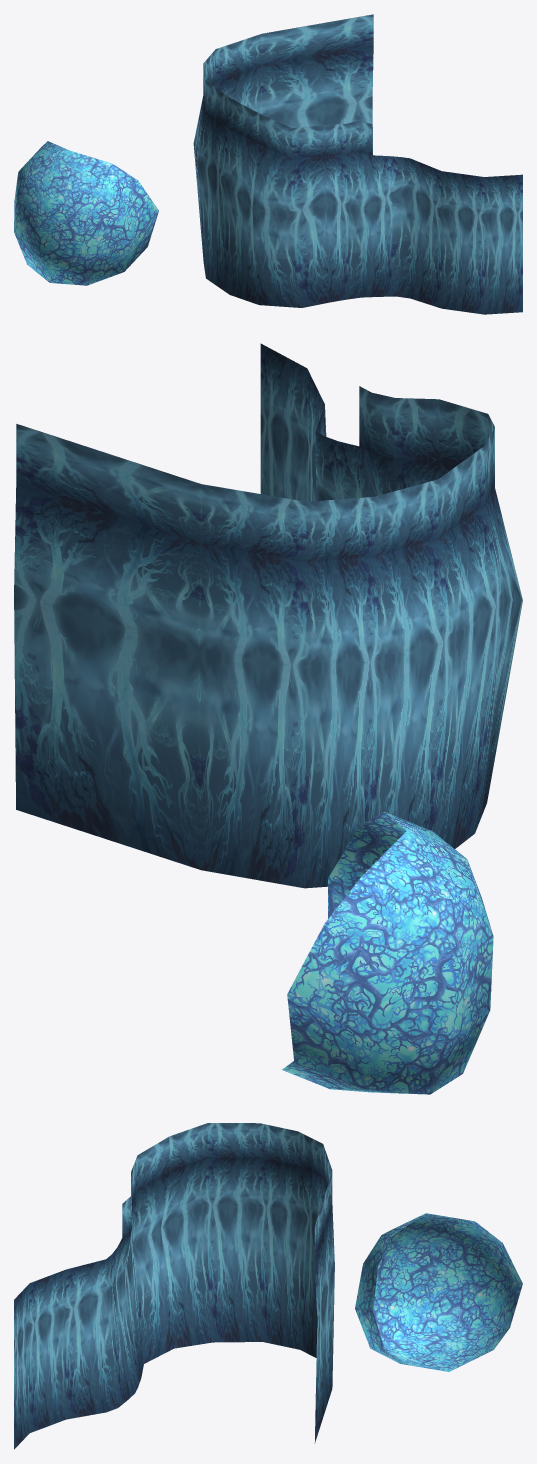
The model's file is f_2302_background.FBX.
The picture shows the model from 3 angles, top to bottom: view 1: azimuth 30°, elevation 25°; view 2: azimuth 150°, elevation 25°; view 3: azimuth 270°, elevation 25°; orthographic projection. The views are drawn at different scales.
Visible parts, largest first — view 1: f_2302_background, f_2302_background01, f_2302_background02; view 2: f_2302_background, f_2302_background01, f_2302_background02; view 3: f_2302_background, f_2302_background01, f_2302_background02.
Boxes of the visible parts, x1,y1,x2,y2 form: f_2302_background: (193,45,522,314); f_2302_background01: (14,141,158,285); f_2302_background02: (203,14,373,159); f_2302_background: (14,343,522,888); f_2302_background01: (282,812,493,1094); f_2302_background02: (16,386,494,562); f_2302_background: (14,1157,334,1449); f_2302_background01: (355,1213,522,1371); f_2302_background02: (122,1123,332,1259).
Size of what is drawn, in the model's own units: 12481 by 9374 by 16572.
